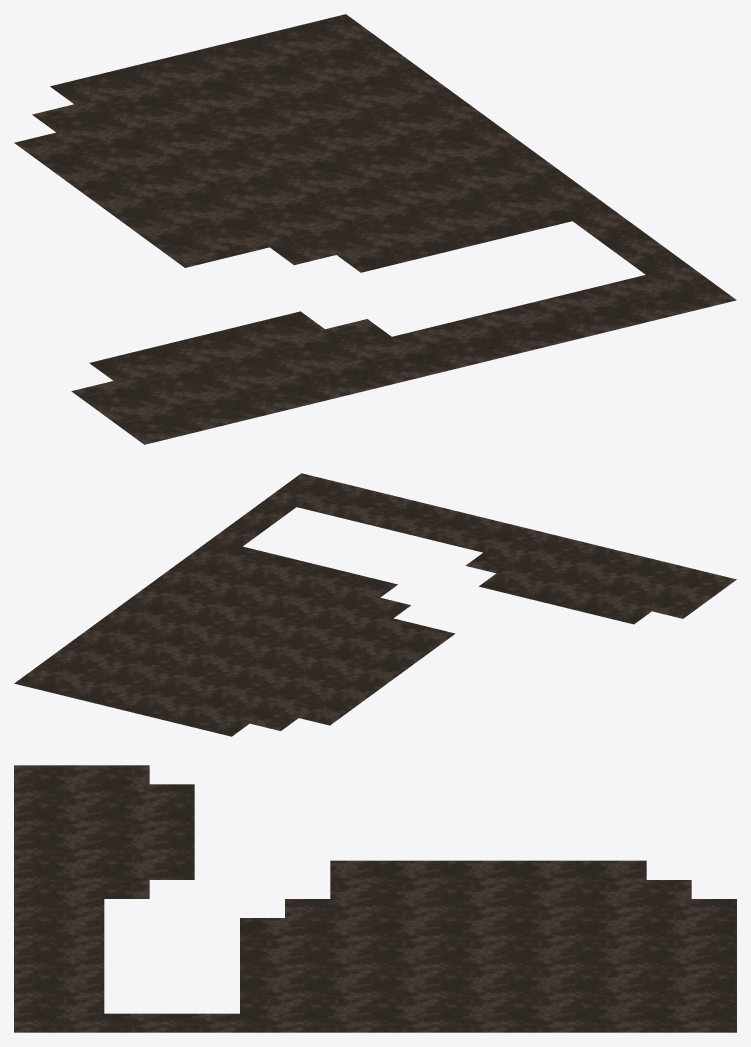
Rendered from floor_-1_-8.glb.
3 views of the same model, one above another, from view 1: azimuth 30°, elevation 25°; view 2: azimuth 150°, elevation 25°; view 3: azimuth 270°, elevation 25° (orthographic). The views are drawn at different scales.
Parts seen in each view (by area): view 1: floor_-1_-8; view 2: floor_-1_-8; view 3: floor_-1_-8.
Boxes of the visible parts, left/top/right/bottom form: floor_-1_-8: left=14, top=14, right=736, bottom=444; floor_-1_-8: left=14, top=473, right=736, bottom=736; floor_-1_-8: left=14, top=765, right=736, bottom=1032.
Bounding box in the file's own units: 56 × 0 × 64.
1 material, 1 textured.
